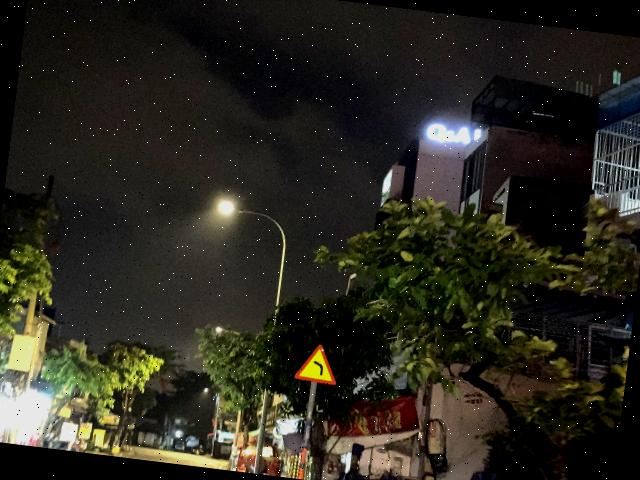cho-ngoat-nguy-hiem-ben-trai: (292, 341, 340, 385)
